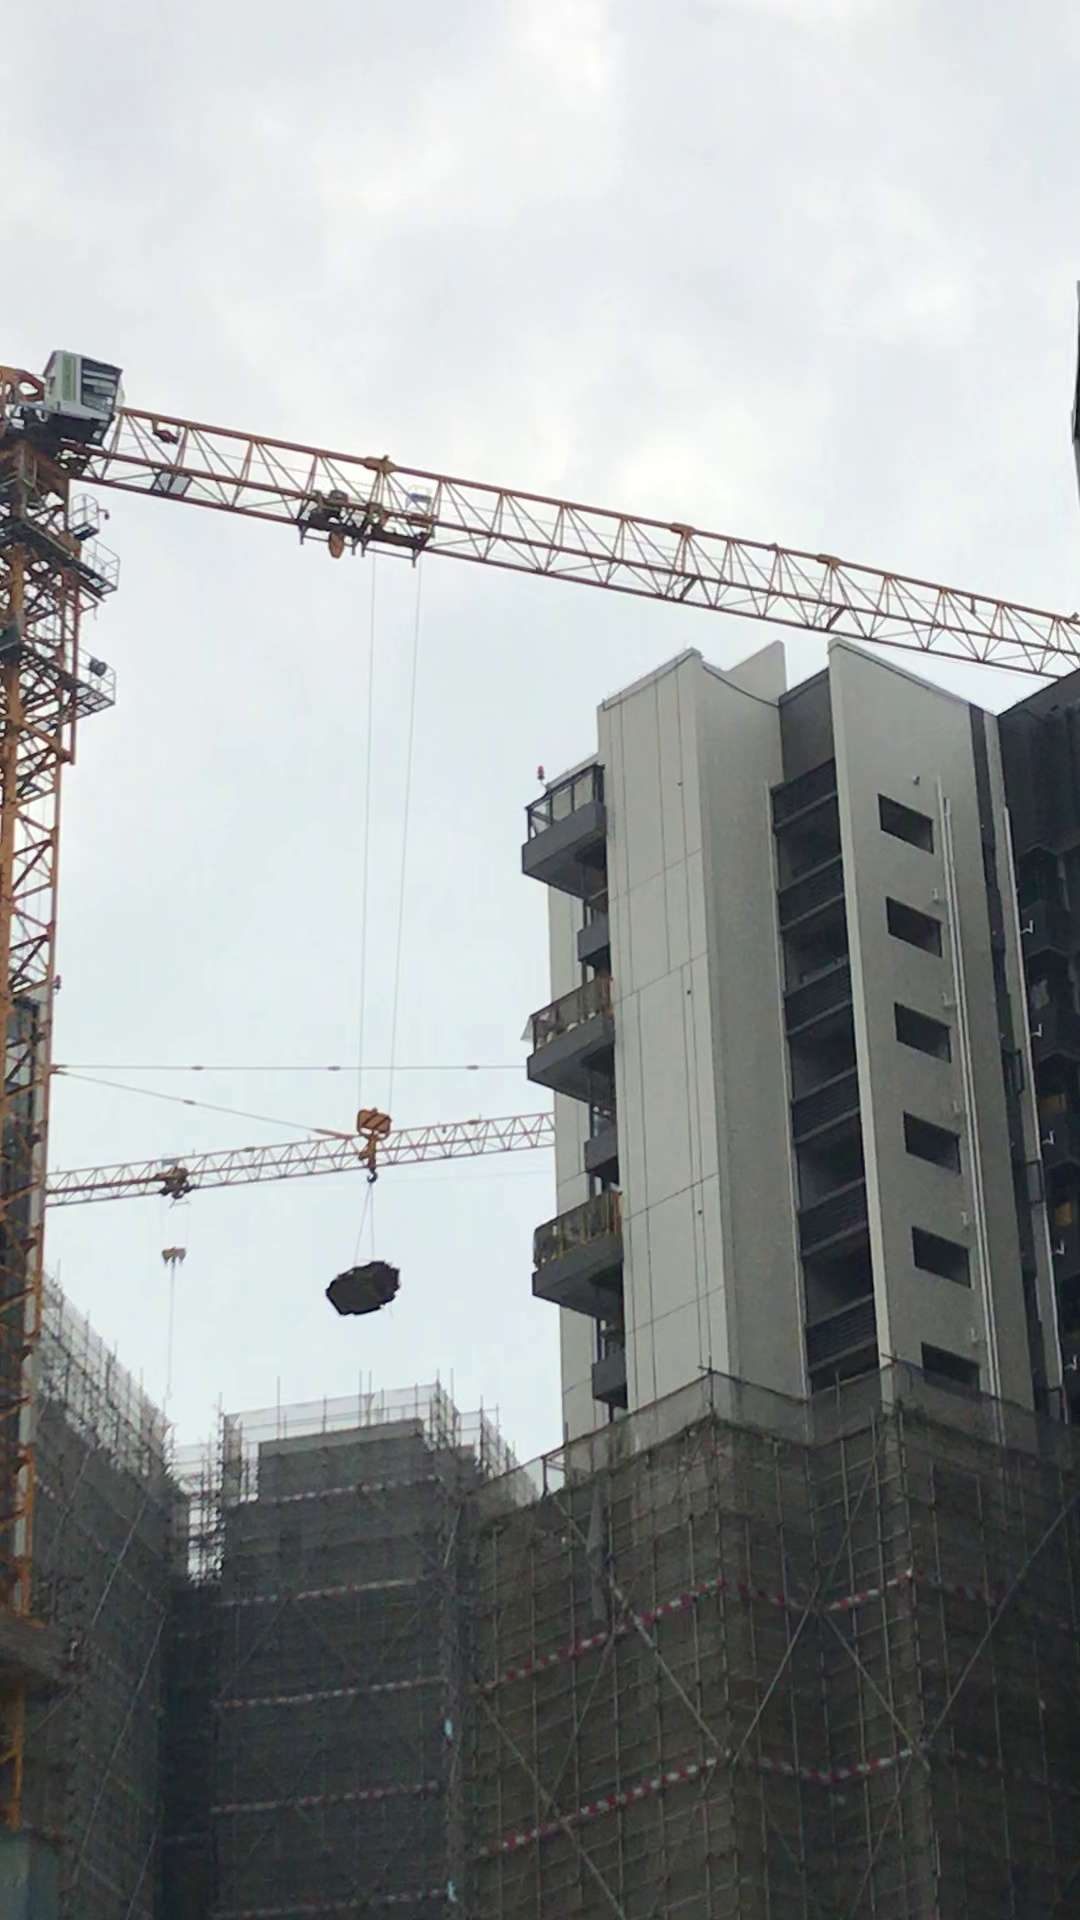hook: (353, 1083, 398, 1195), (160, 1244, 191, 1269)
